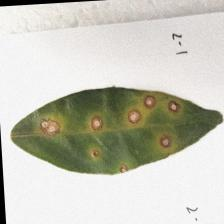canker: (20, 98, 192, 168)
